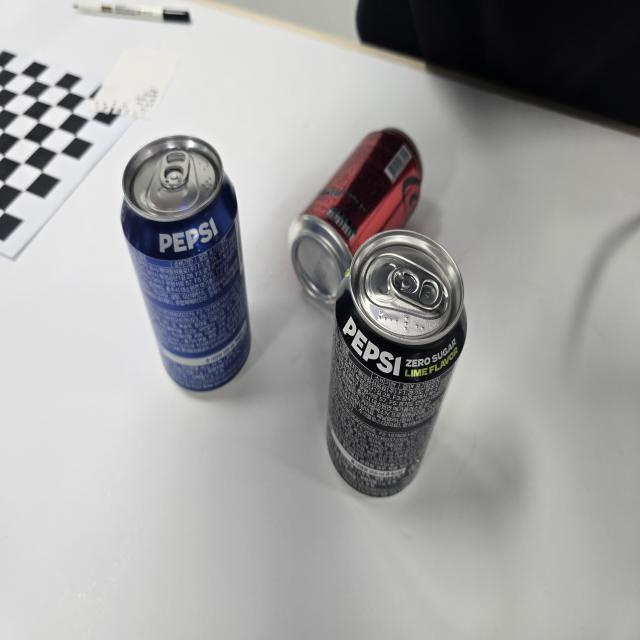can_coke_zero: (288, 129, 422, 306)
can_pepsi: (121, 135, 251, 391)
can_pepsi_zero: (327, 231, 467, 495)
